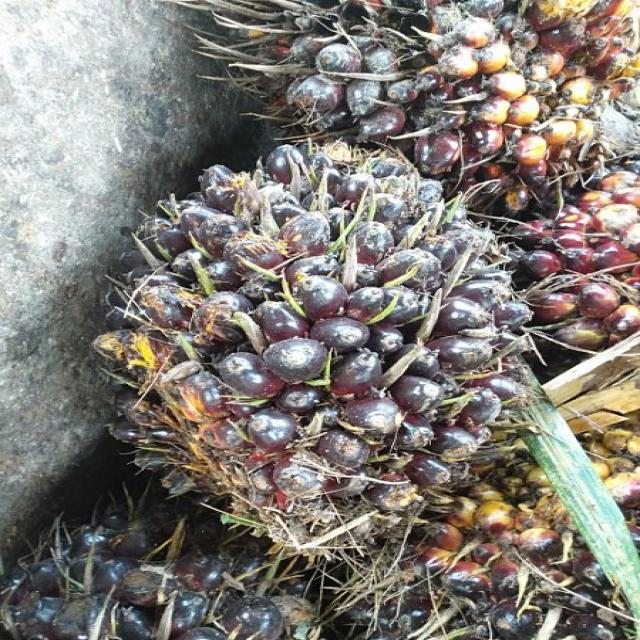fraksi 1: (103, 96, 564, 585)
